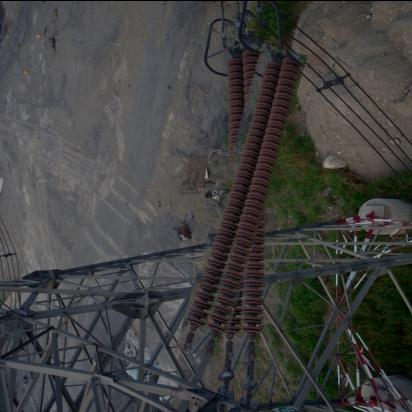insulator: (198, 43, 287, 361)
